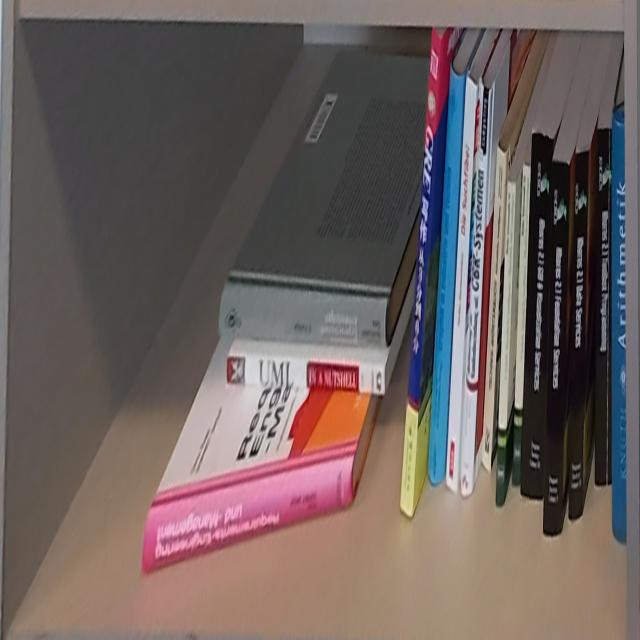Book Spine: (141, 460, 357, 576), (399, 30, 442, 516), (427, 62, 466, 485), (460, 77, 492, 498), (446, 72, 476, 494), (521, 132, 554, 502), (219, 281, 389, 349), (542, 159, 570, 537), (481, 145, 506, 471), (568, 150, 588, 523), (495, 180, 516, 507), (595, 126, 613, 488), (612, 117, 627, 546), (227, 357, 386, 397), (512, 163, 530, 488)
